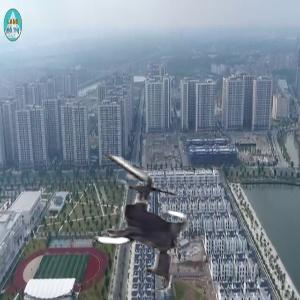drone: (80, 162, 214, 296)
